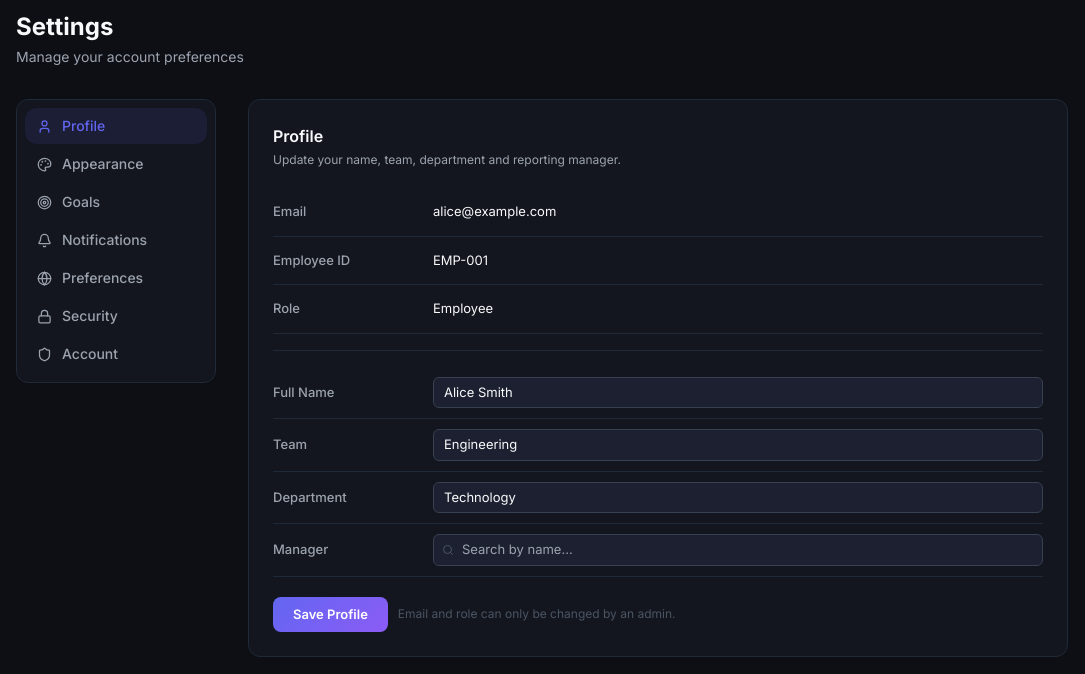
Test: SettingsPage — Notifications section › navigates to Notifications section on click
Click the button "Notifications" at (116,240), box [25,222,207,258]
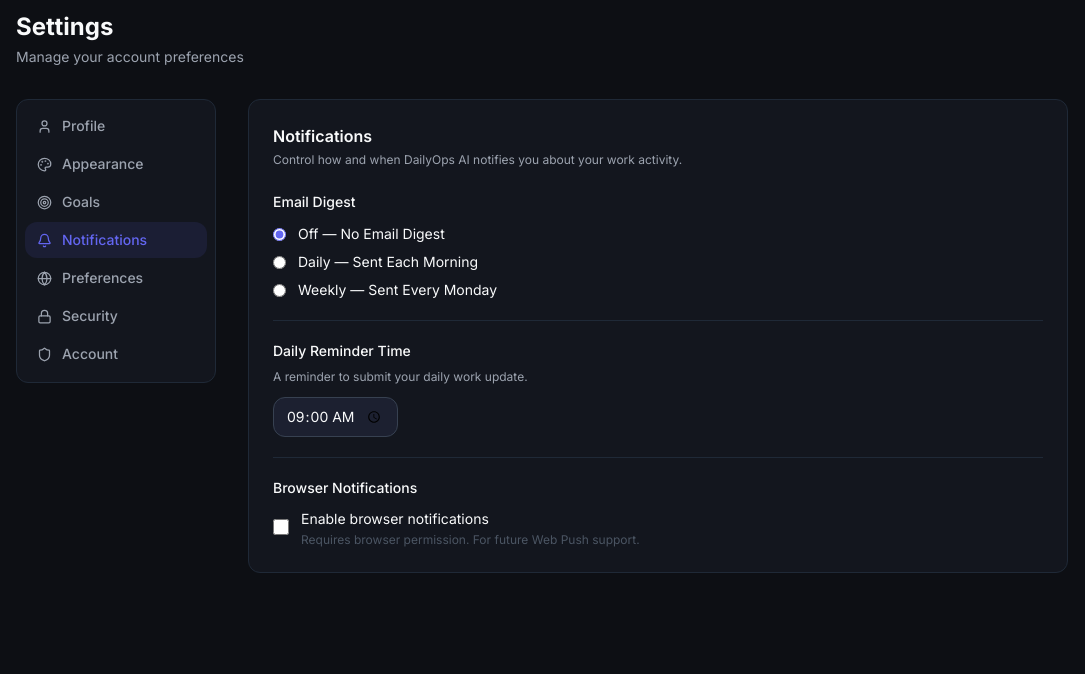
Expected: the text "Email Digest" is shown, [273,193,356,210]
